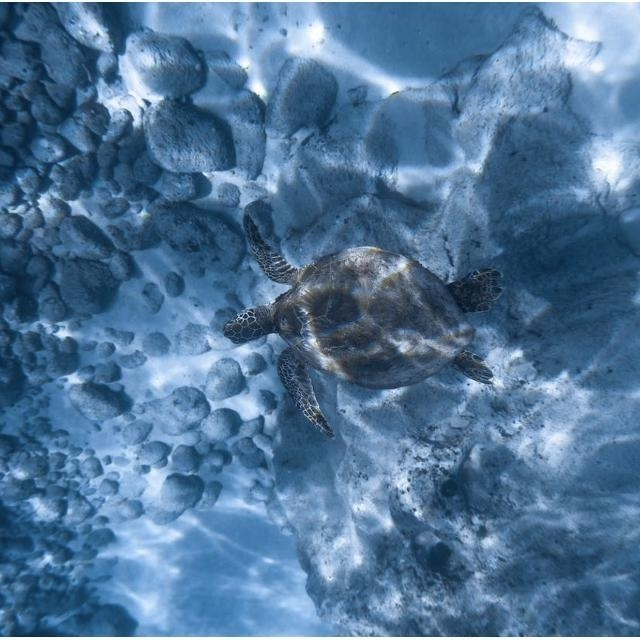turtle: (222, 213, 505, 438)
